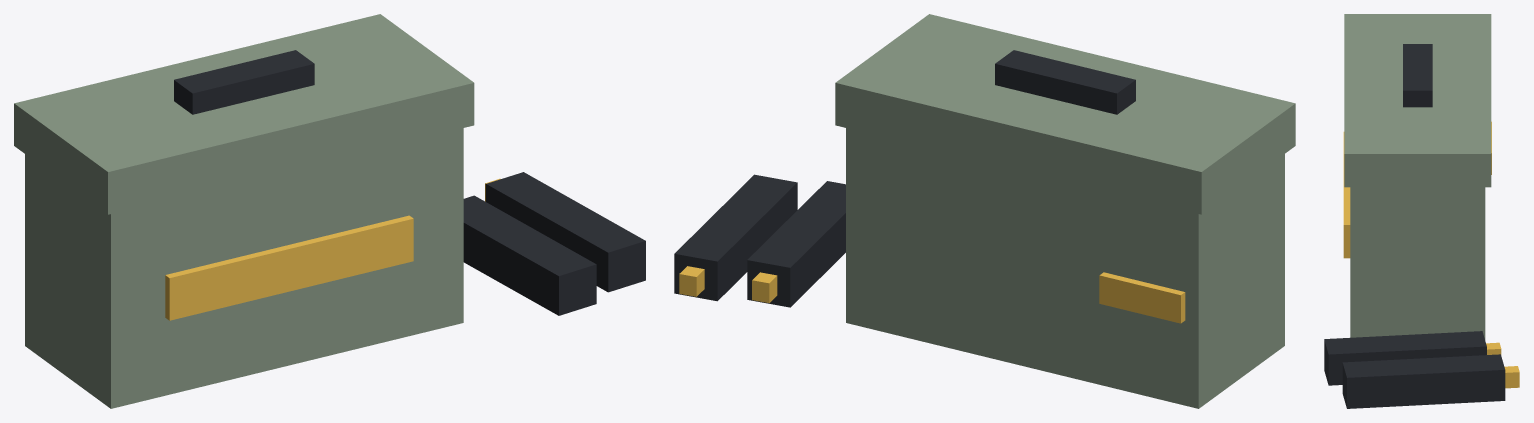
Rendered from ammo_pickup.glb.
The picture shows the model from 3 angles, left to right: view 1: azimuth 30°, elevation 25°; view 2: azimuth 150°, elevation 25°; view 3: azimuth 270°, elevation 25°; orthographic projection. The views are drawn at different scales.
Parts seen in each view (by area): view 1: ammo_pickup_mesh; view 2: ammo_pickup_mesh; view 3: ammo_pickup_mesh.
Part boxes in pixels (<box>): ammo_pickup_mesh: <box>14,14,645,408</box>; ammo_pickup_mesh: <box>674,14,1295,408</box>; ammo_pickup_mesh: <box>1324,14,1519,408</box>.
Bounding box in the file's own units: 0.3977 × 0.185 × 0.1595.
1 material, 1 textured.
